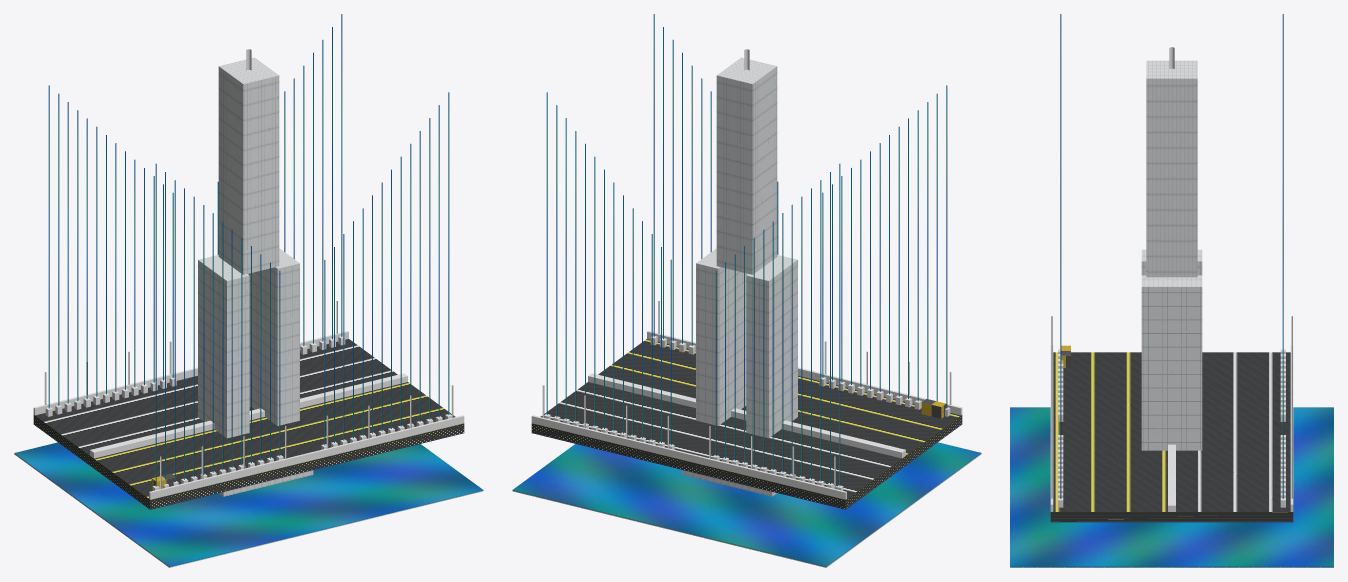
The picture shows the model from 3 angles, left to right: view 1: azimuth 30°, elevation 25°; view 2: azimuth 150°, elevation 25°; view 3: azimuth 270°, elevation 25°; orthographic projection. The views are drawn at different scales.
Parts seen in each view (by area): view 1: 28185_B19_Songdo_Bridge_Pylon; view 2: 28185_B19_Songdo_Bridge_Pylon; view 3: 28185_B19_Songdo_Bridge_Pylon.
Boxes of the visible parts, x1,y1,x2,y2 form: 28185_B19_Songdo_Bridge_Pylon: (14,14,483,567); 28185_B19_Songdo_Bridge_Pylon: (512,14,981,567); 28185_B19_Songdo_Bridge_Pylon: (1010,14,1333,567).
Bounding box in the file's own units: 56 × 72 × 48.
1 material, 1 textured.
